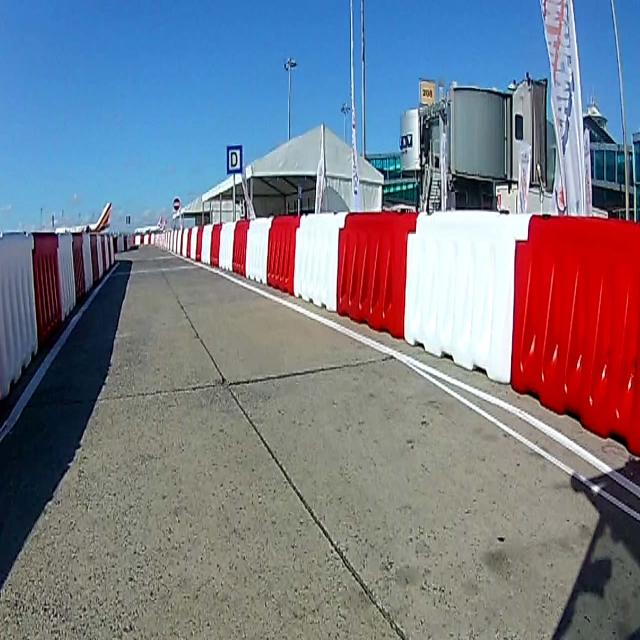durak: (225, 142, 243, 176)
girisyok: (172, 195, 182, 212)
